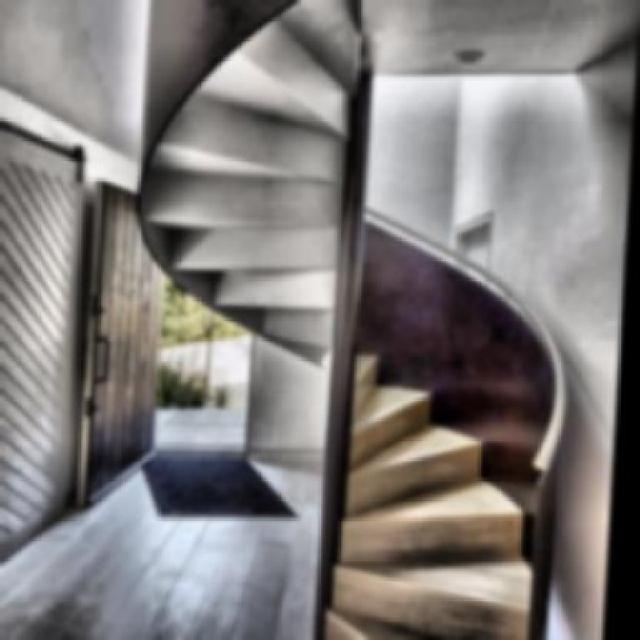stair: (325, 351, 572, 640)
